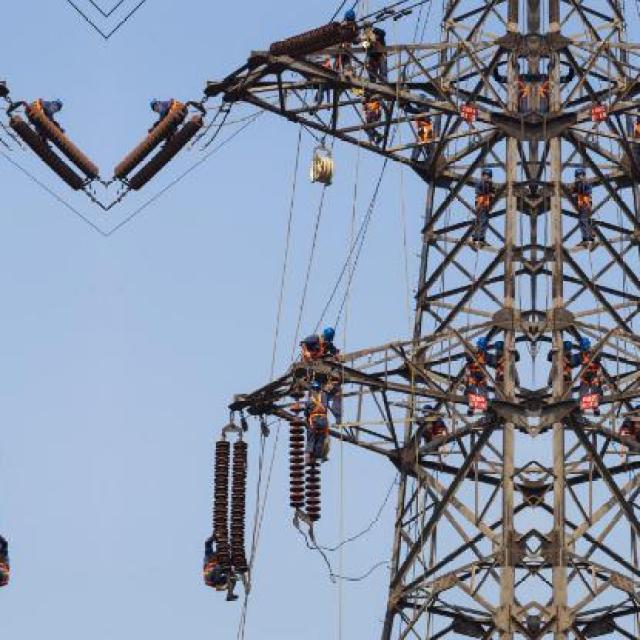helmet: (319, 326, 336, 346), (309, 378, 325, 397), (339, 9, 356, 25), (472, 334, 486, 352), (579, 334, 593, 352), (49, 98, 68, 111), (479, 165, 493, 182), (572, 165, 586, 182), (145, 98, 163, 111), (492, 338, 504, 354), (560, 338, 572, 354)
